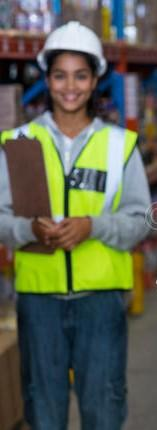hat: (39, 20, 105, 66)
low quality vest: (4, 120, 140, 295)
no protective face gear: (43, 55, 98, 109)
